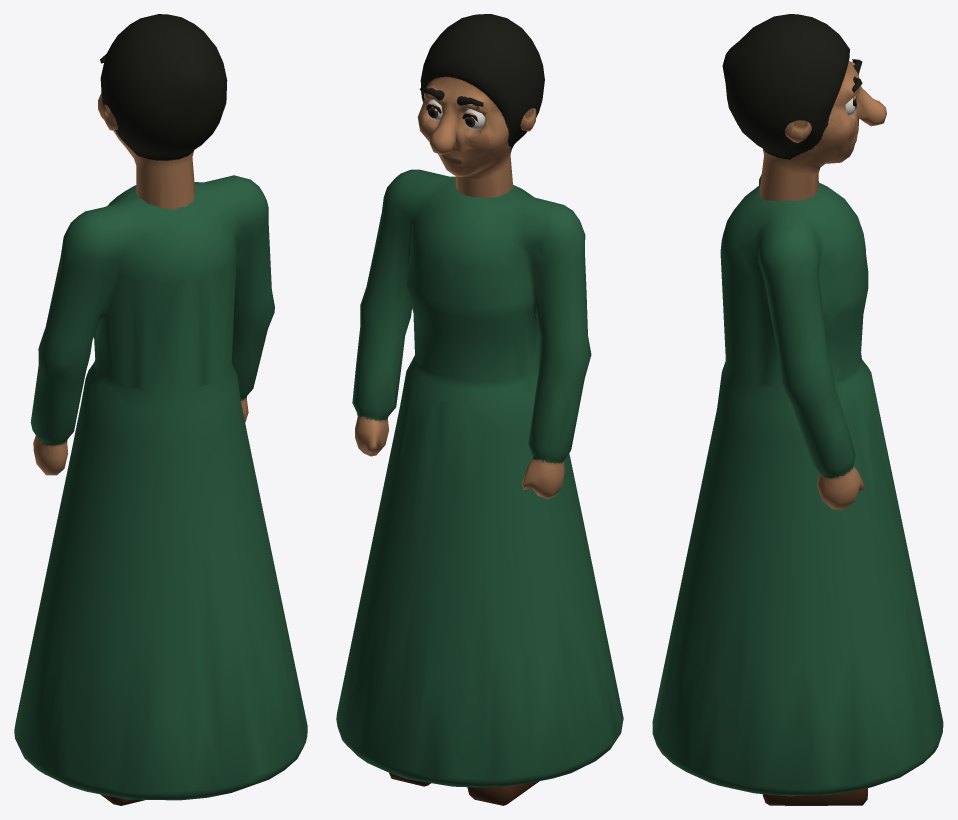
The model's file is woman-b.glb.
The picture shows the model from 3 angles, left to right: view 1: azimuth 30°, elevation 25°; view 2: azimuth 150°, elevation 25°; view 3: azimuth 270°, elevation 25°; orthographic projection. The views are drawn at different scales.
Visible parts, largest first — view 1: body_lod0, head_lod0; view 2: body_lod0, head_lod0; view 3: body_lod0, head_lod0.
Boxes of the visible parts, box(x1,y1,x2,y2) form: body_lod0: box(14, 175, 307, 805); head_lod0: box(98, 14, 227, 209); body_lod0: box(336, 169, 623, 805); head_lod0: box(417, 14, 544, 197); body_lod0: box(652, 174, 943, 805); head_lod0: box(722, 14, 886, 201).
Size of what is drawn, in the model's own units: 0.6594 by 1.91 by 0.6594.
